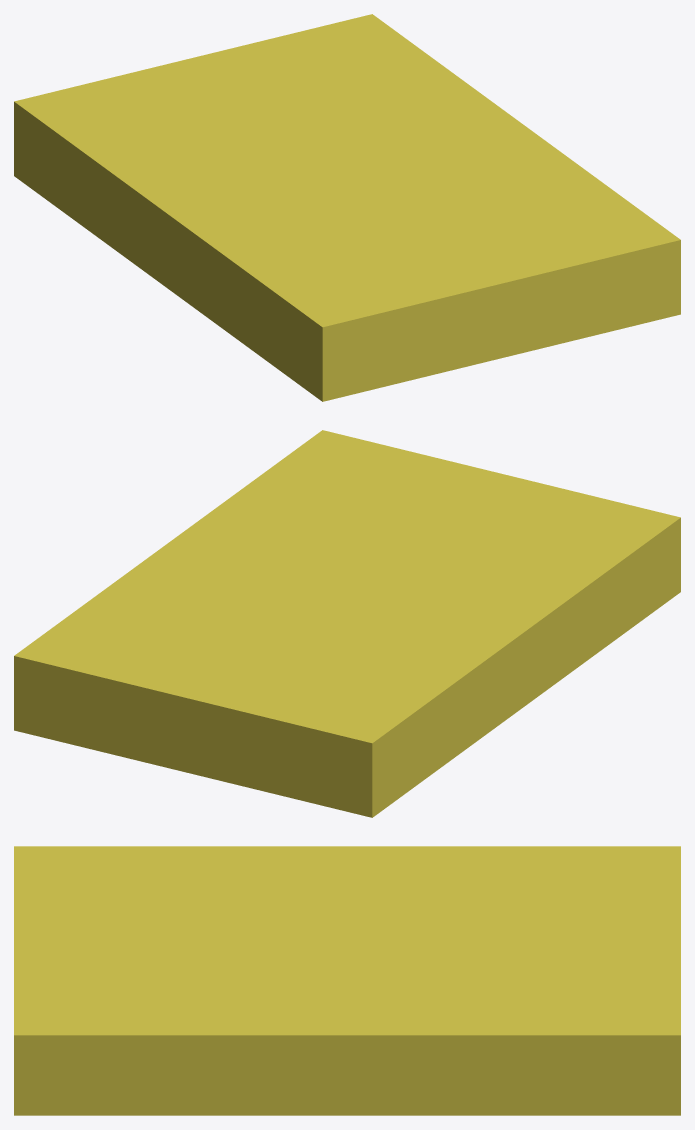
Rendered from Generic 2RU Device Blank.glb.
3 views of the same model, one above another, from view 1: azimuth 30°, elevation 25°; view 2: azimuth 150°, elevation 25°; view 3: azimuth 270°, elevation 25° (orthographic). The views are drawn at different scales.
Parts seen in each view (by area): view 1: Mesh_Mesh_head_geo.001_lambert2SG.001; view 2: Mesh_Mesh_head_geo.001_lambert2SG.001; view 3: Mesh_Mesh_head_geo.001_lambert2SG.001.
Boxes of the visible parts, bbox=[...] form: Mesh_Mesh_head_geo.001_lambert2SG.001: bbox=[14, 14, 680, 401]; Mesh_Mesh_head_geo.001_lambert2SG.001: bbox=[14, 430, 680, 817]; Mesh_Mesh_head_geo.001_lambert2SG.001: bbox=[14, 846, 680, 1115].
Bounding box in the file's own units: 434 × 86.36 × 648.
